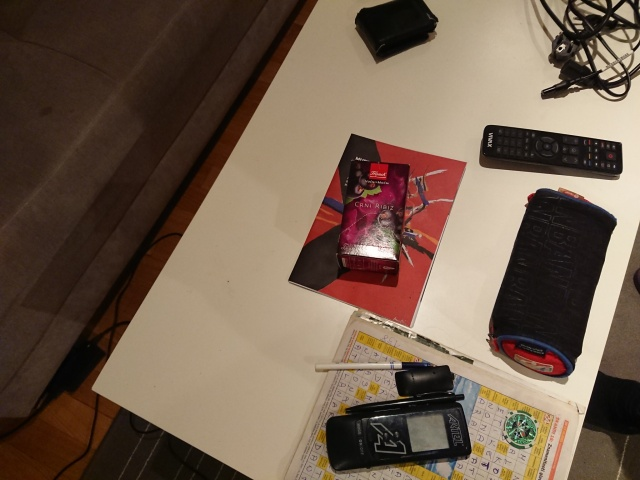Franck Black Currant Tea 60g: (332, 158, 413, 277)
